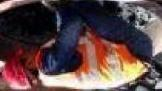boots: (0, 0, 24, 13), (0, 0, 22, 10)
hard-hat: (28, 0, 52, 14)
vest: (0, 0, 50, 46)
